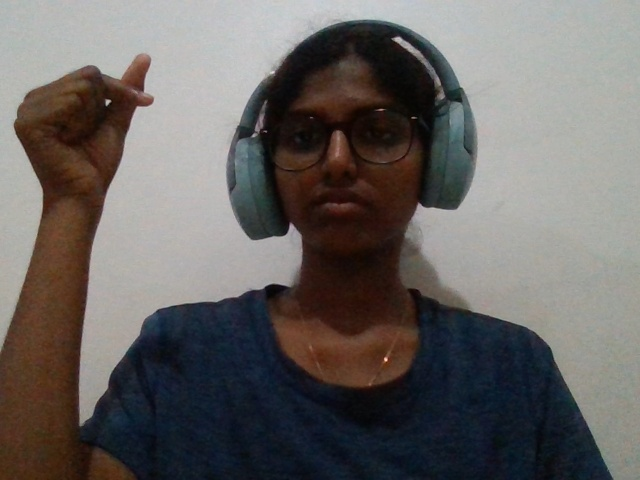G: (1, 47, 162, 321)
